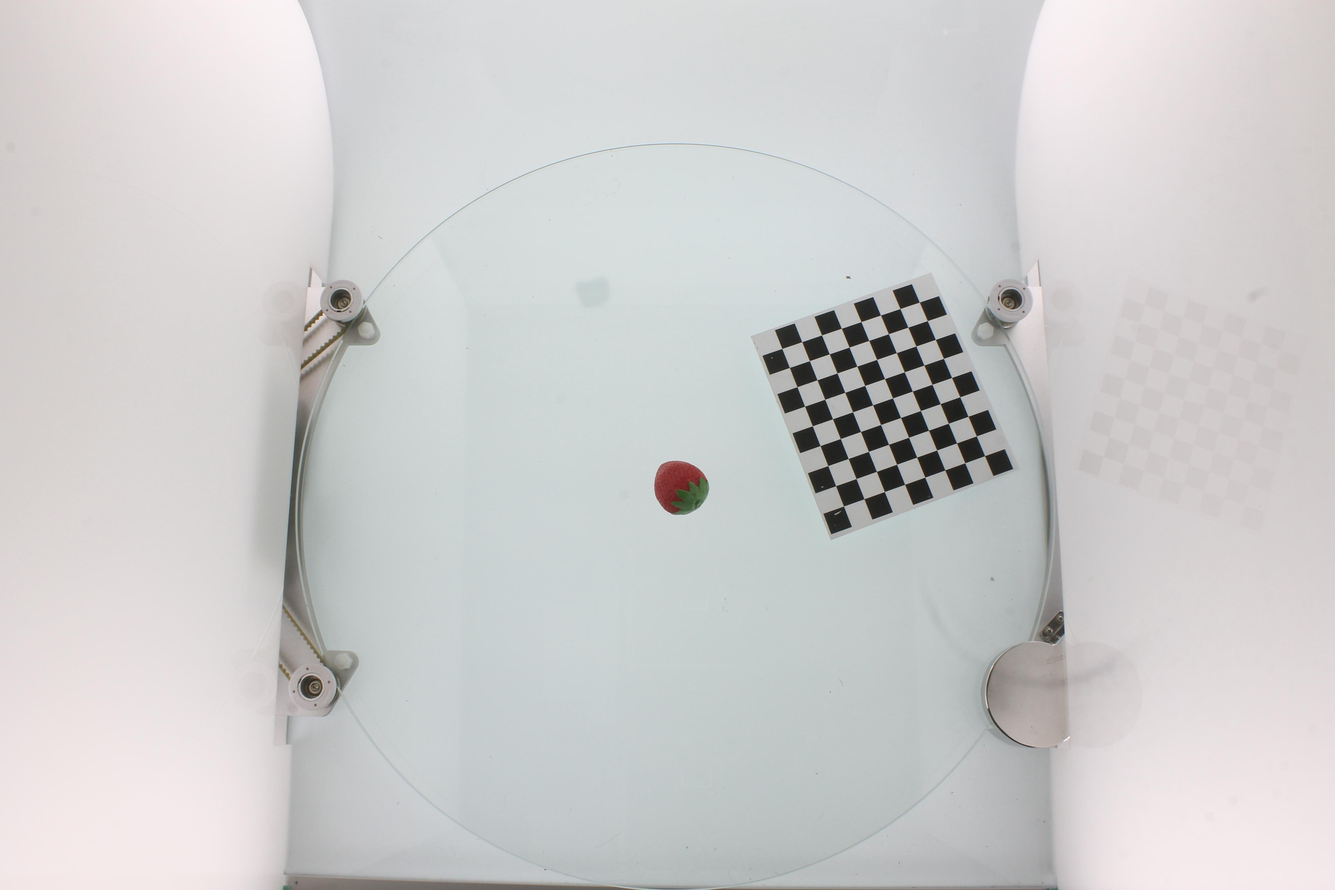strawberry: (654, 461, 708, 514)
